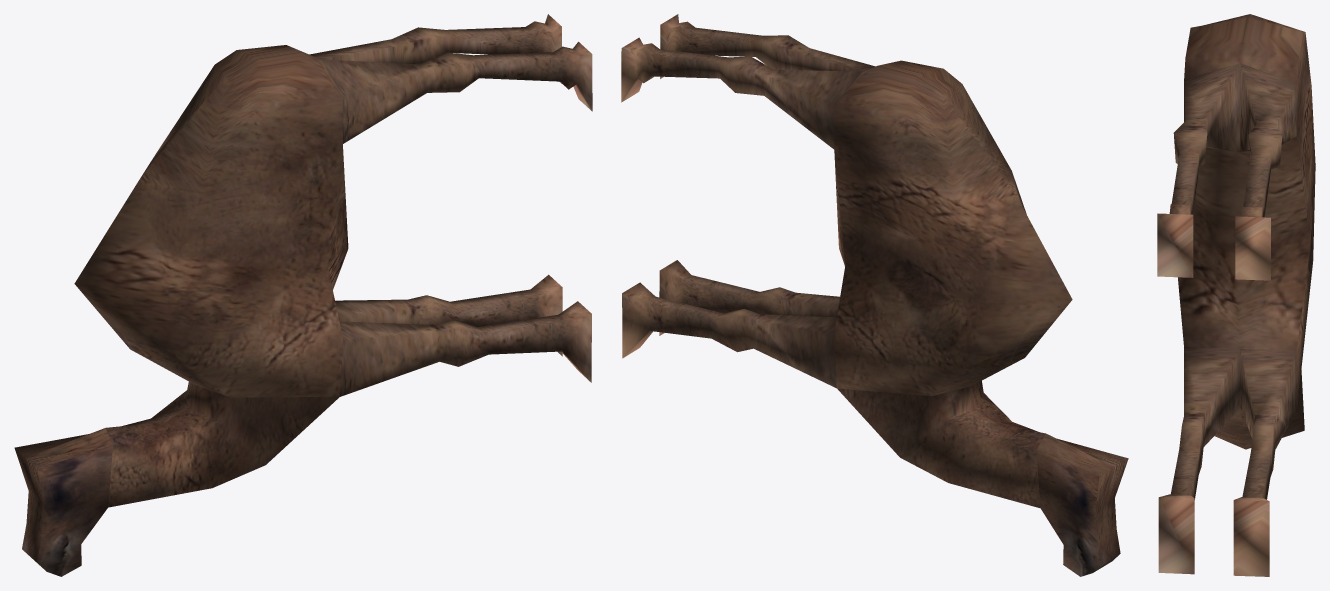
File: camel_41.fbx
The picture shows the model from 3 angles, left to right: view 1: azimuth 30°, elevation 25°; view 2: azimuth 150°, elevation 25°; view 3: azimuth 270°, elevation 25°; orthographic projection. The views are drawn at different scales.
Parts seen in each view (by area): view 1: camel_41; view 2: camel_41; view 3: camel_41.
Boxes of the visible parts, <box> form: camel_41: <box>14,14,592,576</box>; camel_41: <box>621,14,1128,576</box>; camel_41: <box>1157,14,1315,576</box>.
Size of the model in its own units: 56.95 by 48.84 by 13.65.
